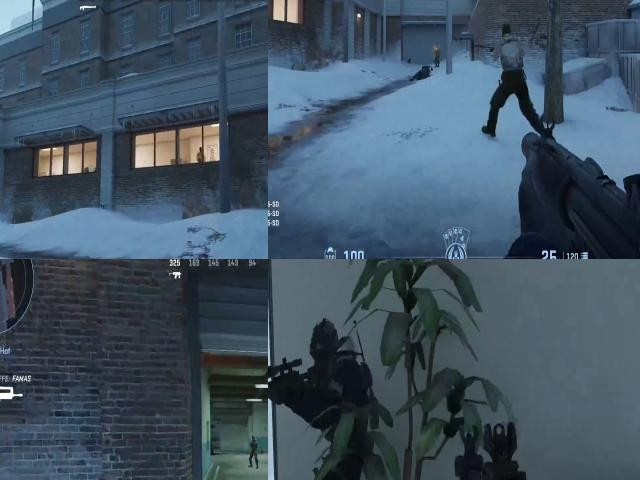CT: (298, 306, 370, 479), (434, 44, 440, 67)
CT-Head: (302, 313, 343, 381)
Dead: (249, 434, 259, 462)
T: (493, 25, 525, 102), (196, 146, 203, 162)
T-Head: (500, 20, 515, 43), (198, 145, 204, 152)
